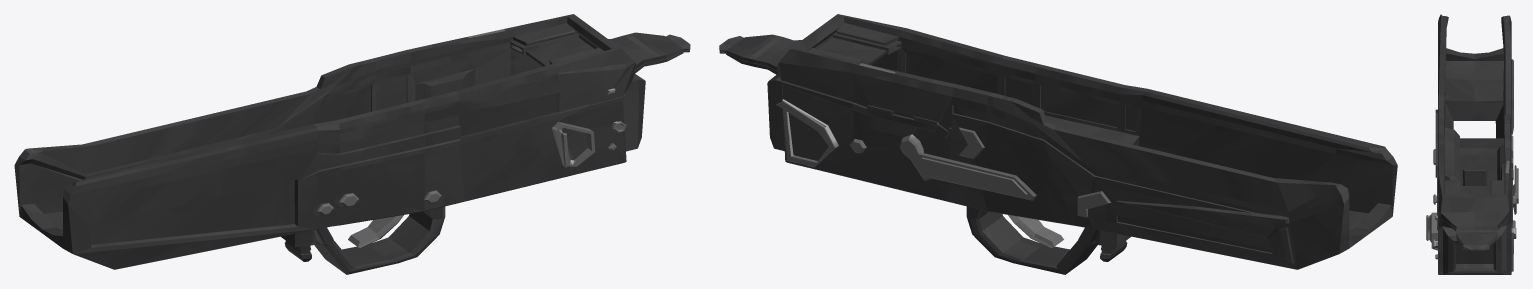
Rendered from ReceiverAK.fbx.
3 renders of one model, left to right at view 1: azimuth 30°, elevation 25°; view 2: azimuth 150°, elevation 25°; view 3: azimuth 270°, elevation 25°, orthographic. The views are drawn at different scales.
Visible parts, largest first — view 1: Receiver; view 2: Receiver; view 3: Receiver.
Boxes of the visible parts, x1,y1,x2,y2 form: Receiver: [14, 14, 690, 274]; Receiver: [719, 14, 1397, 274]; Receiver: [1426, 14, 1518, 274].
Size of the model in its own units: 98.18 by 25.56 by 17.64.
